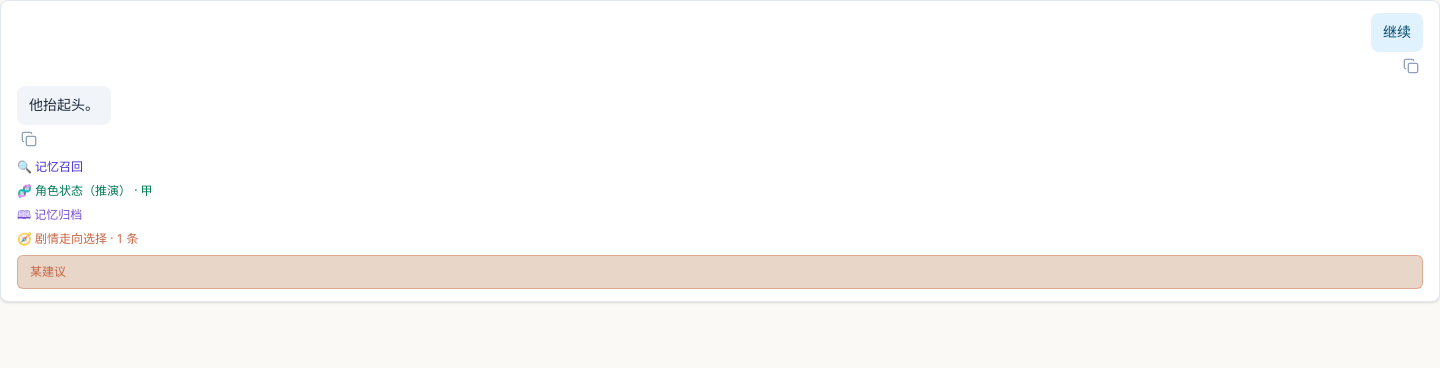
Test: TurnSegments › renders each event-log bubble when round.eventLogEntries is non-empty
The image size is (1440, 368).
Click the button "🕮 记忆归档". click: (50, 214)
box: [17,206,82,222]
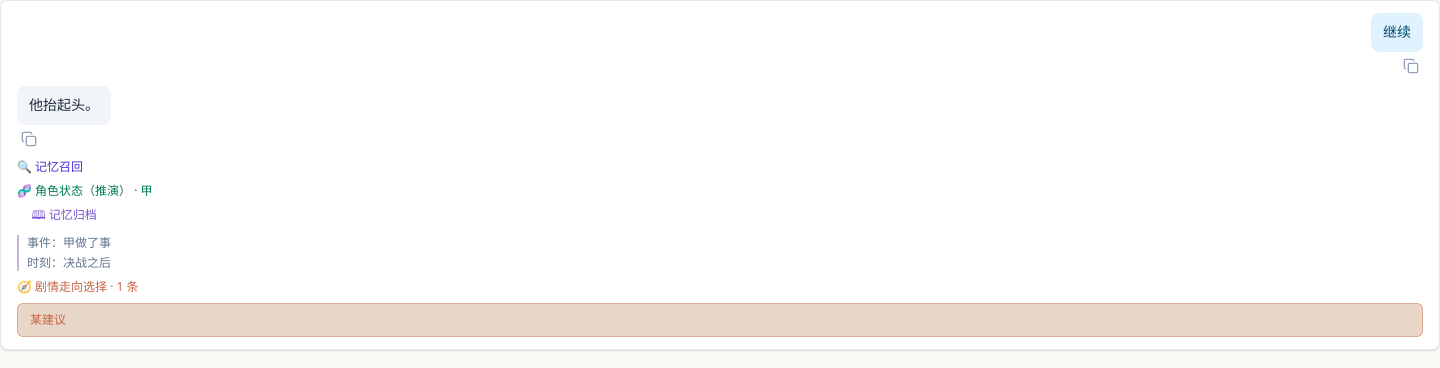
Expected: the text "事件：甲做了事" is shown, [27,234,111,250]
Expected: the text "时刻：决战之后" is shown, [27,254,111,270]
